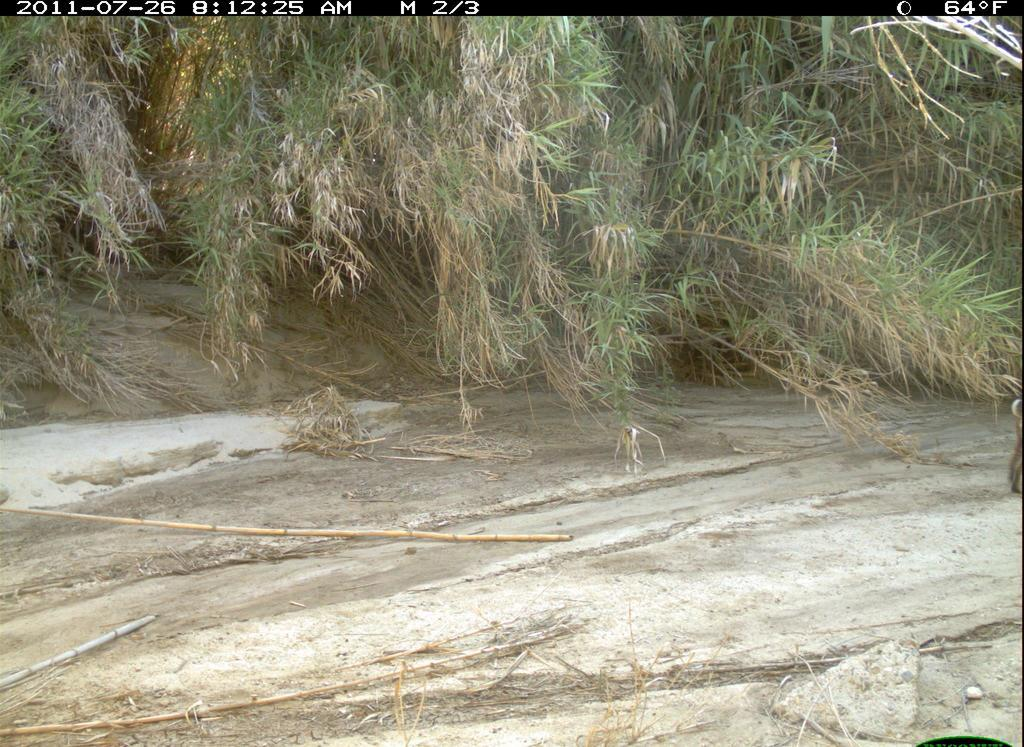bobcat: (1000, 393, 1023, 502)
